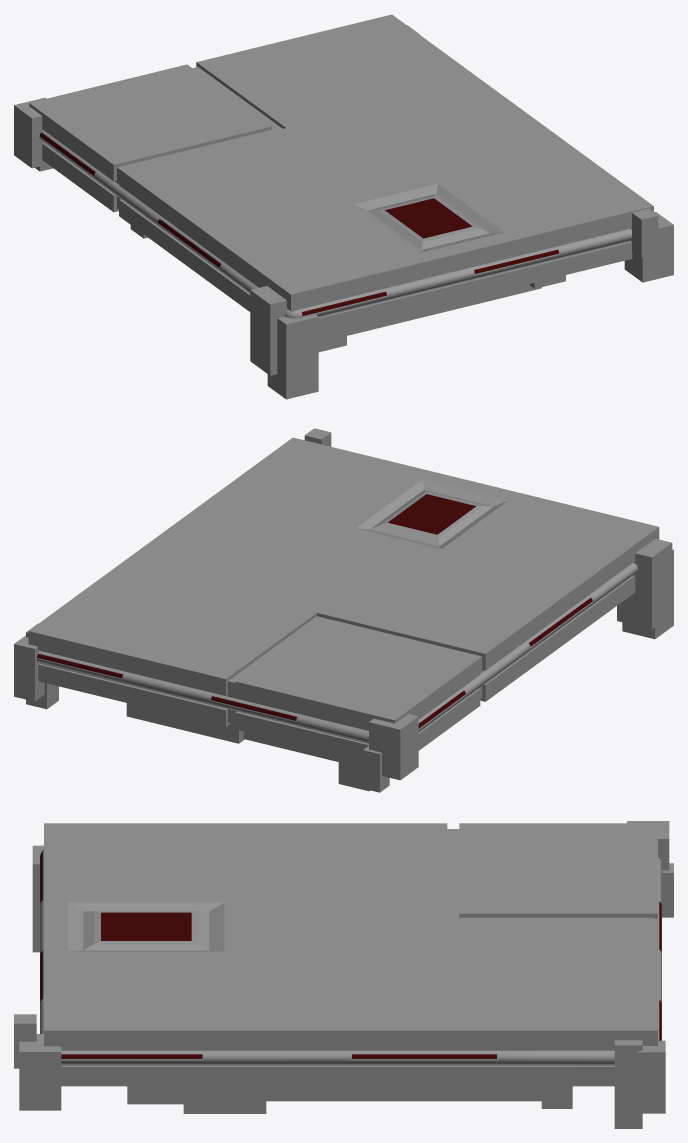
Rendered from OBJ_Platform_3.fbx.
The picture shows the model from 3 angles, top to bottom: view 1: azimuth 30°, elevation 25°; view 2: azimuth 150°, elevation 25°; view 3: azimuth 270°, elevation 25°; orthographic projection. The views are drawn at different scales.
Parts seen in each view (by area): view 1: OBJ_Platform_2; view 2: OBJ_Platform_2; view 3: OBJ_Platform_2.
Boxes of the visible parts, left/top/right/bottom form: OBJ_Platform_2: left=14, top=14, right=673, bottom=399; OBJ_Platform_2: left=14, top=428, right=673, bottom=792; OBJ_Platform_2: left=14, top=821, right=673, bottom=1128.
Size of the model in its own units: 861 by 243 by 1075.
